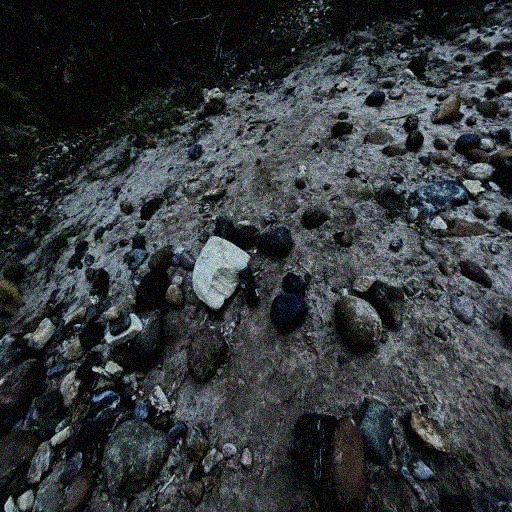bottle: (233, 262, 260, 305)
